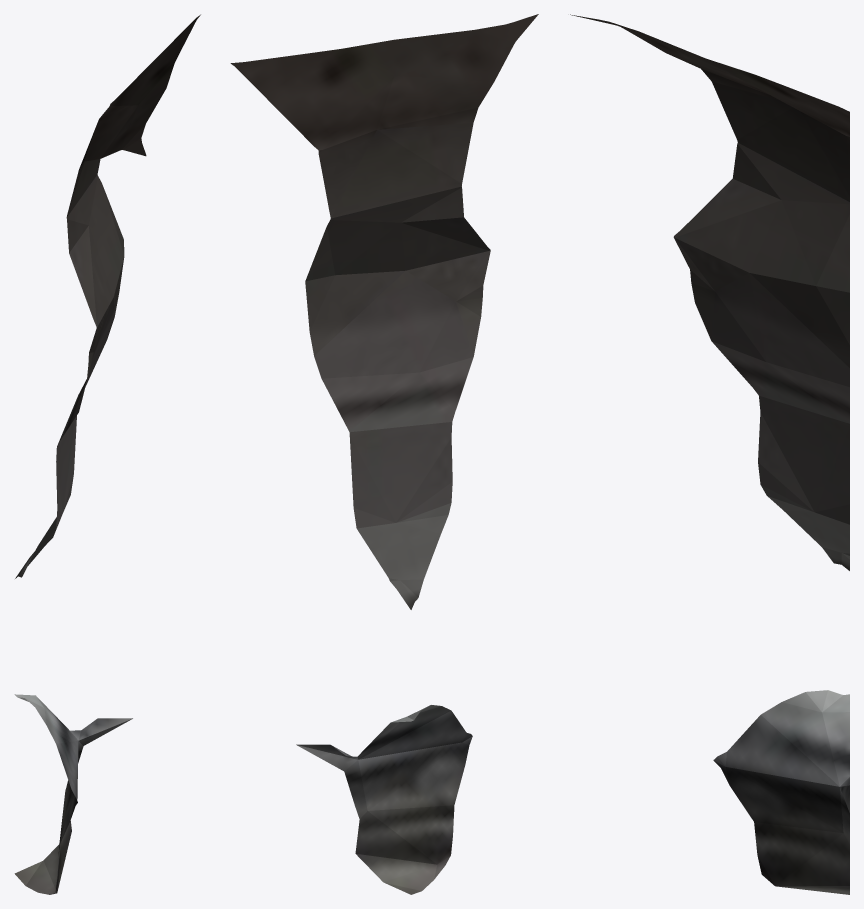
3 views of the same model, side by side, from view 1: azimuth 30°, elevation 25°; view 2: azimuth 150°, elevation 25°; view 3: azimuth 270°, elevation 25° (orthographic). The views are drawn at different scales.
Size of the model in its own units: 0.1052 by 0.4395 by 0.1284.
Materials: 1 (1 with a texture image).
